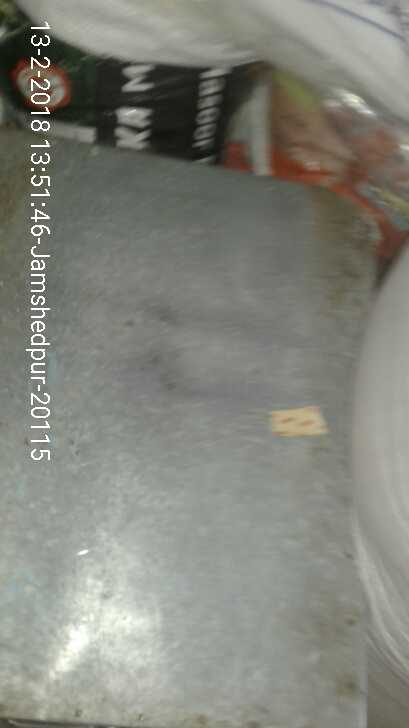reject: (79, 244, 163, 302)
